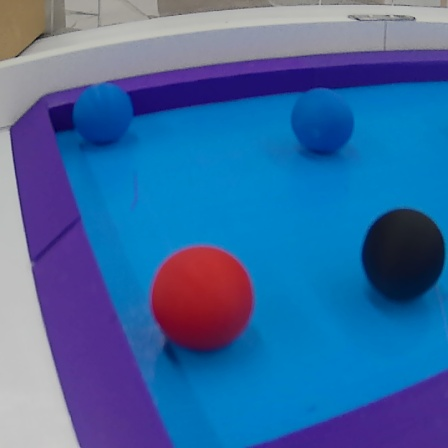black: (360, 206, 447, 305)
blue: (291, 85, 356, 156), (69, 81, 137, 147)
blue_aim: (12, 45, 448, 448)
red: (144, 245, 257, 354)
